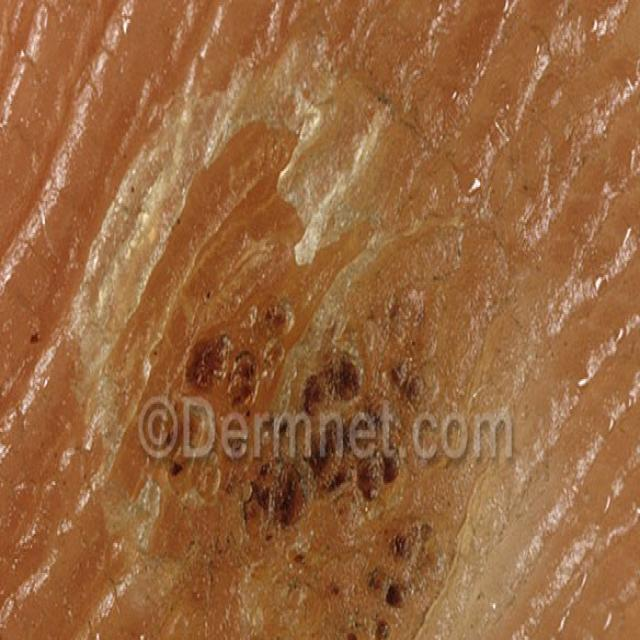Warts: (80, 40, 491, 640)
